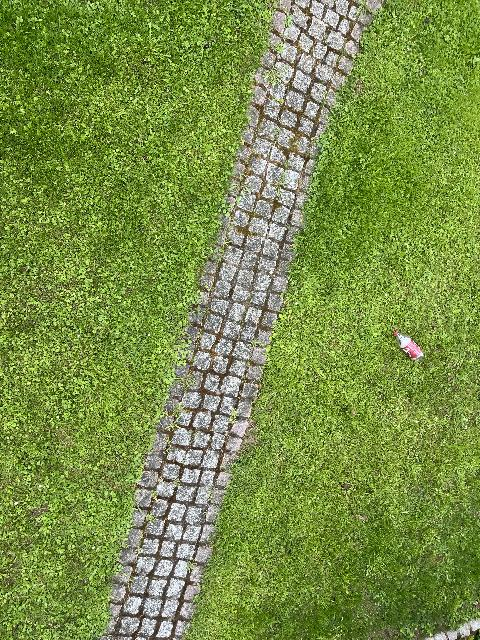plastic_bottle: (391, 329, 426, 364)
